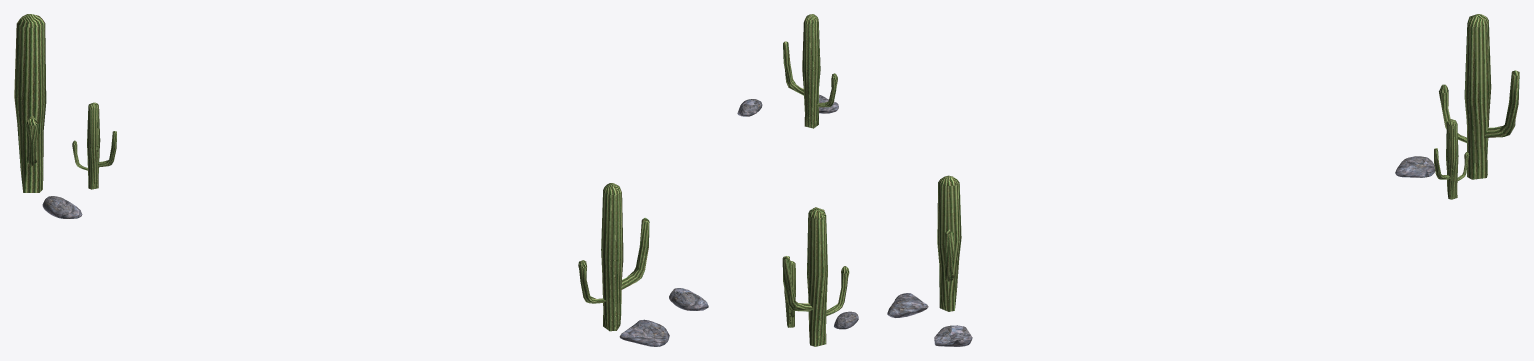
File: cactusstone.FBX
3 views of the same model, side by side, from view 1: azimuth 30°, elevation 25°; view 2: azimuth 150°, elevation 25°; view 3: azimuth 270°, elevation 25° (orthographic). The views are drawn at different scales.
Parts seen in each view (by area): view 1: Kaktus2, Kaktus, Kaktus3, Kamen2, Kamen3, Kamen1; view 2: Kaktus2, Kaktus, Kaktus3, Kamen3, Kamen1, Kamen2; view 3: Kaktus2, Kaktus, Kaktus3, Kamen3, Kamen2, Kamen1.
Part boxes in pixels (<box>): Kaktus2: <box>14,14,46,192</box>; Kaktus: <box>578,183,649,331</box>; Kaktus3: <box>72,102,116,189</box>; Kamen2: <box>619,319,669,346</box>; Kamen3: <box>42,196,82,218</box>; Kamen1: <box>669,288,708,310</box>; Kaktus2: <box>782,207,849,346</box>; Kaktus: <box>783,14,837,128</box>; Kaktus3: <box>784,260,795,327</box>; Kamen3: <box>834,311,858,329</box>; Kamen1: <box>737,99,762,116</box>; Kamen2: <box>819,94,838,113</box>; Kaktus2: <box>1439,14,1519,179</box>; Kaktus: <box>937,175,961,311</box>; Kaktus3: <box>1434,119,1469,199</box>; Kamen3: <box>1395,156,1435,177</box>; Kamen2: <box>887,293,928,317</box>; Kamen1: <box>934,325,972,346</box>.
Size of the model in its own units: 275 by 113 by 401.
2 materials, 2 textured.
